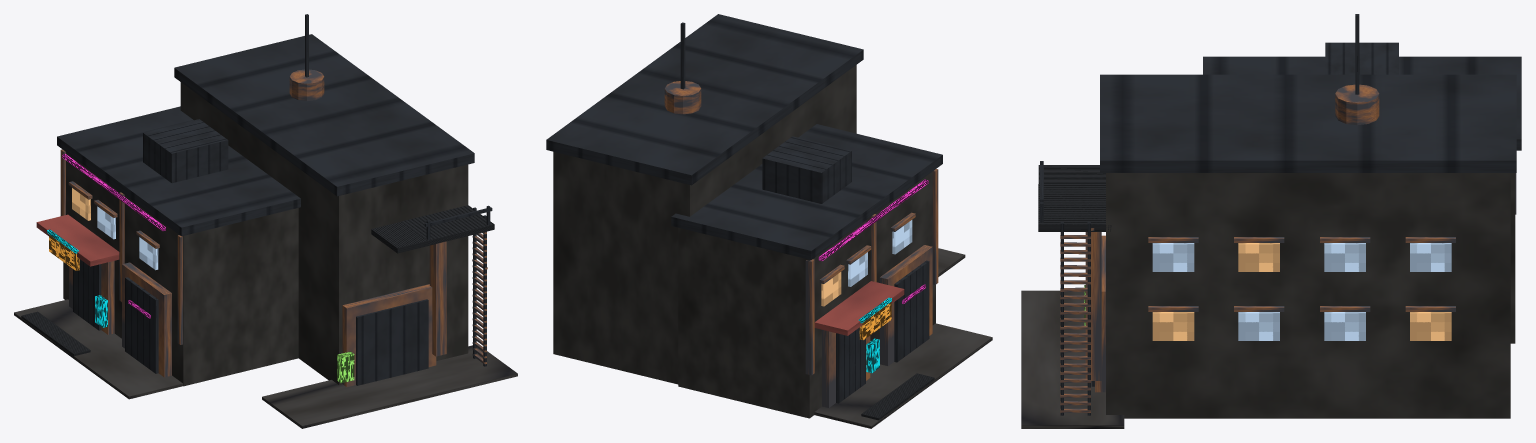
Rendered from Hesperus_BountyEvidenceAnnex.glb.
The picture shows the model from 3 angles, left to right: view 1: azimuth 30°, elevation 25°; view 2: azimuth 150°, elevation 25°; view 3: azimuth 270°, elevation 25°; orthographic projection. The views are drawn at different scales.
Visible parts, largest first — view 1: EA_ImpoundHall_Mass, EA_ImpoundHall_RoofCap, EA_RecordsWing_Mass, EA_RecordsWing_RoofCap, EA_ServiceApron, EA_ServiceBayDoor, EA_Forecourt, EA_RoofArchiveUnit, EA_EvidenceVaultDoor, EA_ServiceBayFrame, EA_EvidenceVaultFrame, EA_PublicAwning (+12 smaller); view 2: EA_ImpoundHall_Mass, EA_RecordsWing_Mass, EA_ImpoundHall_RoofCap, EA_RecordsWing_RoofCap, EA_Forecourt, EA_RoofArchiveUnit, EA_EvidenceVaultDoor, EA_PublicAwning, EA_EvidenceVaultFrame, EA_PublicDoor, EA_PublicThreshold, EA_PublicDoorFrame (+10 smaller); view 3: EA_ImpoundHall_Mass, EA_ImpoundHall_RoofCap, EA_ServiceApron, EA_RecordsWing_RoofCap, EA_RoofLanding, EA_RoofArchiveUnit, EA_ServicePipe, EA_RoofDishBase, EA_ImpoundHall_Window_0_3, EA_ImpoundHall_Window_1_3, EA_ImpoundHall_Window_0_0, EA_ImpoundHall_Window_0_1 (+9 smaller).
Boxes of the visible parts, bbox=[...] form: EA_ImpoundHall_Mass: bbox=[180, 82, 468, 384]; EA_ImpoundHall_RoofCap: bbox=[174, 34, 474, 196]; EA_RecordsWing_Mass: bbox=[63, 152, 298, 386]; EA_RecordsWing_RoofCap: bbox=[57, 106, 300, 236]; EA_ServiceApron: bbox=[262, 345, 517, 428]; EA_ServiceBayDoor: bbox=[356, 299, 428, 385]; EA_Forecourt: bbox=[14, 299, 182, 399]; EA_RoofArchiveUnit: bbox=[143, 119, 228, 183]; EA_EvidenceVaultDoor: bbox=[125, 277, 158, 373]; EA_ServiceBayFrame: bbox=[342, 284, 436, 386]; EA_EvidenceVaultFrame: bbox=[122, 262, 171, 377]; EA_PublicAwning: bbox=[36, 214, 119, 266]; EA_ImpoundHall_Mass: bbox=[553, 65, 856, 384]; EA_RecordsWing_Mass: bbox=[678, 171, 935, 418]; EA_ImpoundHall_RoofCap: bbox=[546, 14, 863, 185]; EA_RecordsWing_RoofCap: bbox=[671, 124, 942, 259]; EA_Forecourt: bbox=[814, 323, 992, 428]; EA_RoofArchiveUnit: bbox=[762, 136, 851, 203]; EA_EvidenceVaultDoor: bbox=[894, 260, 929, 362]; EA_PublicAwning: bbox=[814, 281, 904, 335]; EA_EvidenceVaultFrame: bbox=[879, 245, 932, 365]; EA_PublicDoor: bbox=[836, 327, 865, 403]; EA_PublicThreshold: bbox=[861, 373, 934, 420]; EA_PublicDoorFrame: bbox=[822, 330, 870, 407]; EA_ImpoundHall_Mass: bbox=[1106, 173, 1510, 418]; EA_ImpoundHall_RoofCap: bbox=[1100, 74, 1516, 172]; EA_ServiceApron: bbox=[1021, 290, 1124, 428]; EA_RecordsWing_RoofCap: bbox=[1203, 56, 1521, 150]; EA_RoofLanding: bbox=[1038, 184, 1111, 231]; EA_RoofArchiveUnit: bbox=[1325, 42, 1398, 74]; EA_ServicePipe: bbox=[1085, 232, 1101, 380]; EA_RoofDishBase: bbox=[1335, 84, 1379, 125]; EA_ImpoundHall_Window_0_3: bbox=[1152, 312, 1194, 340]; EA_ImpoundHall_Window_1_3: bbox=[1152, 243, 1194, 271]; EA_ImpoundHall_Window_0_0: bbox=[1410, 312, 1451, 340]; EA_ImpoundHall_Window_0_1: bbox=[1324, 312, 1365, 340].
Bounding box in the file's own units: 19 × 16.4 × 20.4.
12 materials, 12 textured.
